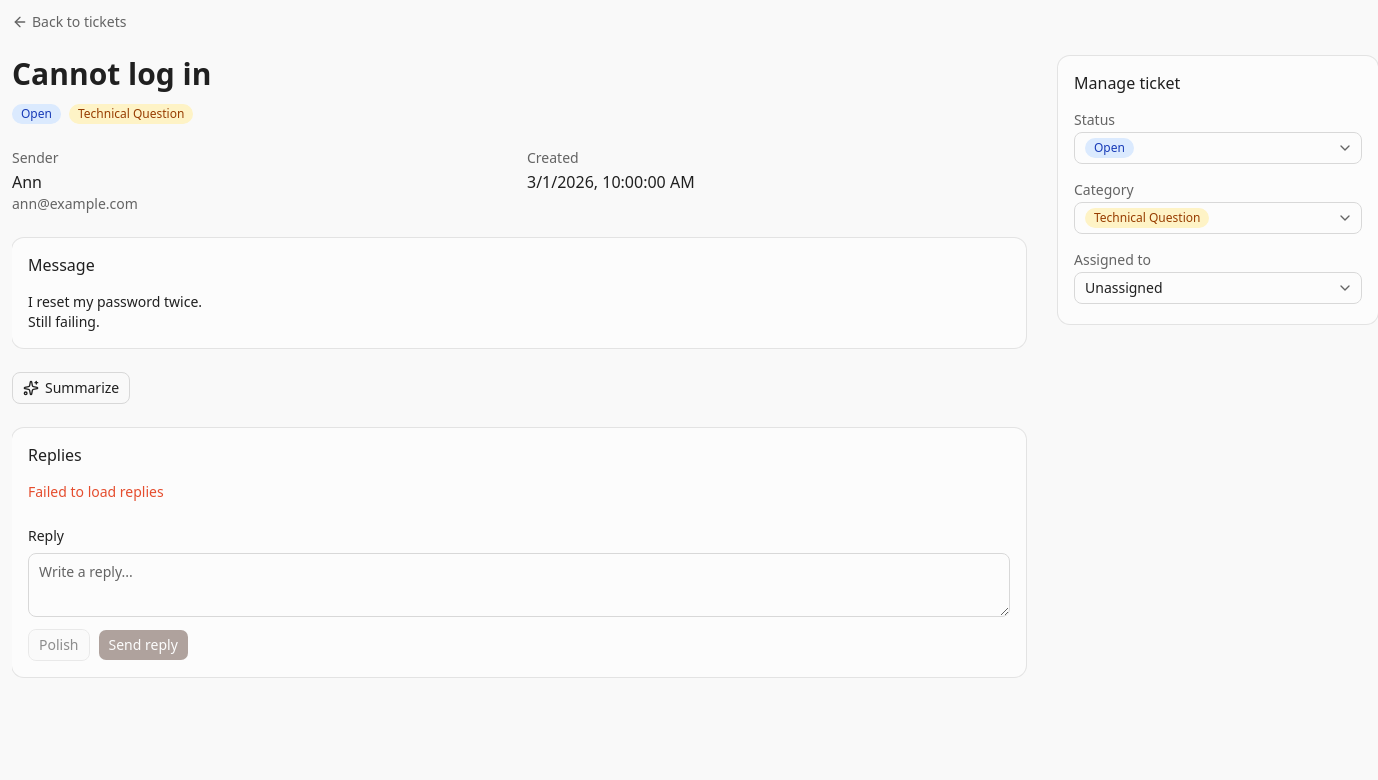
Test: TicketDetailsPage › assigning › shows the server's error when assigning fails
The width and height of the screenshot is (1378, 780).
Click the dropdown named "Assign ticket" at (1124, 288), box [1074,272,1362,304]
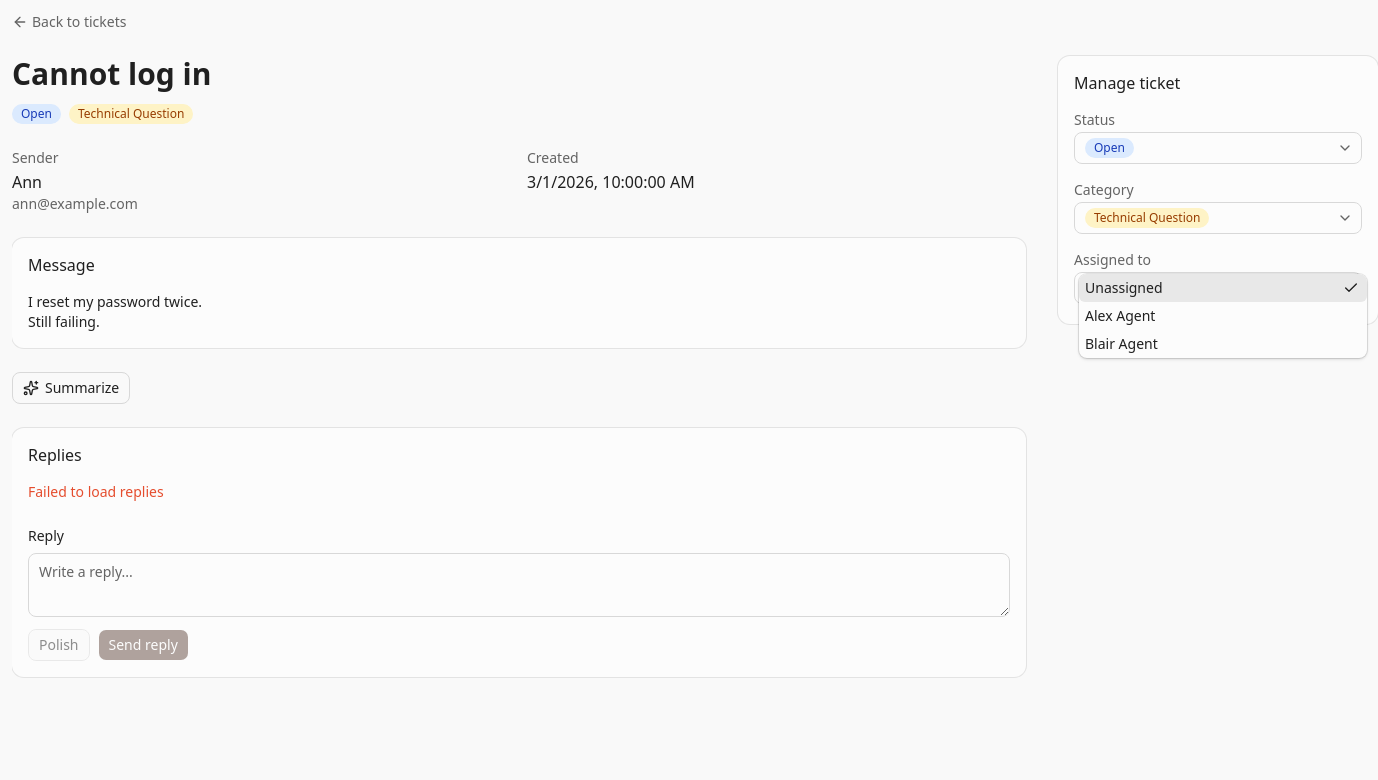
Click the option "Alex Agent" at (1120, 316), box [1085,306,1155,325]
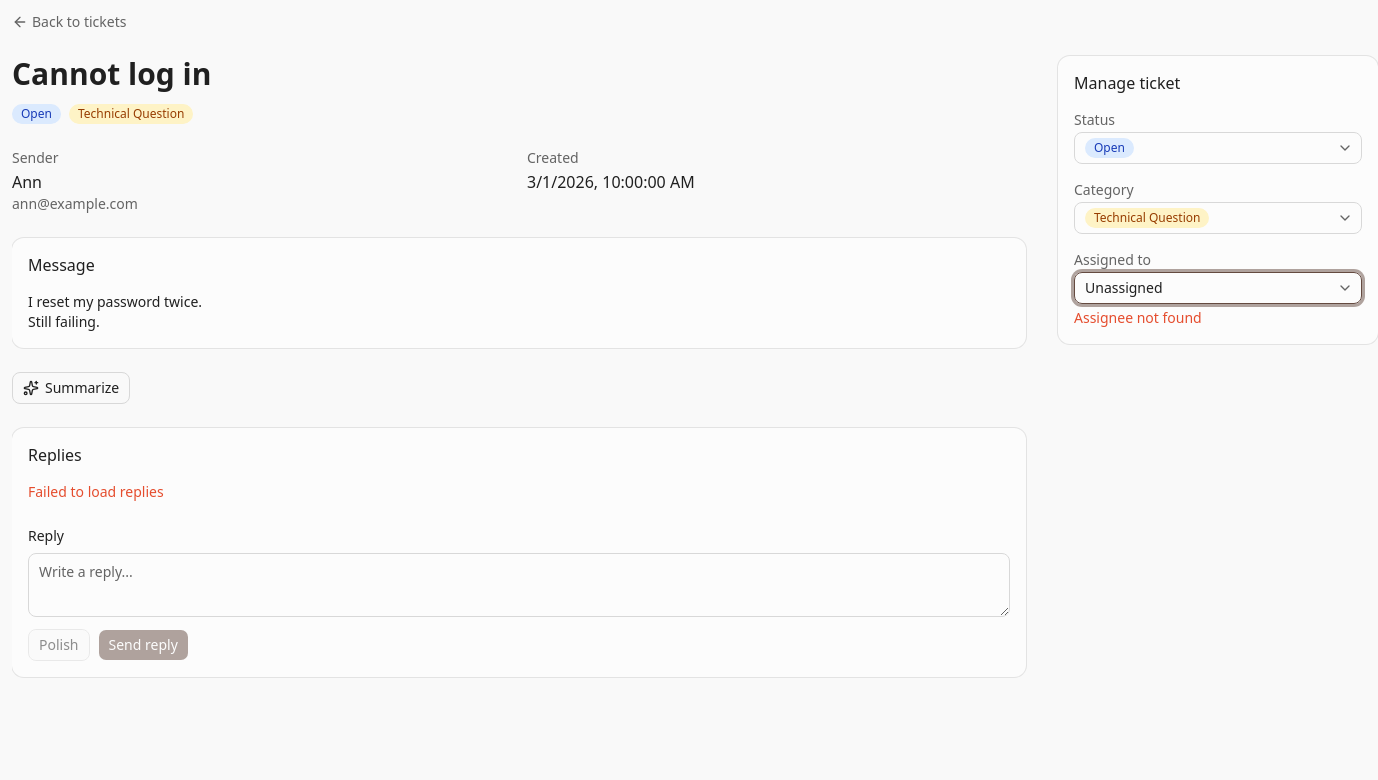
Expected: the text "Assignee not found" is shown, [1074,308,1202,327]
